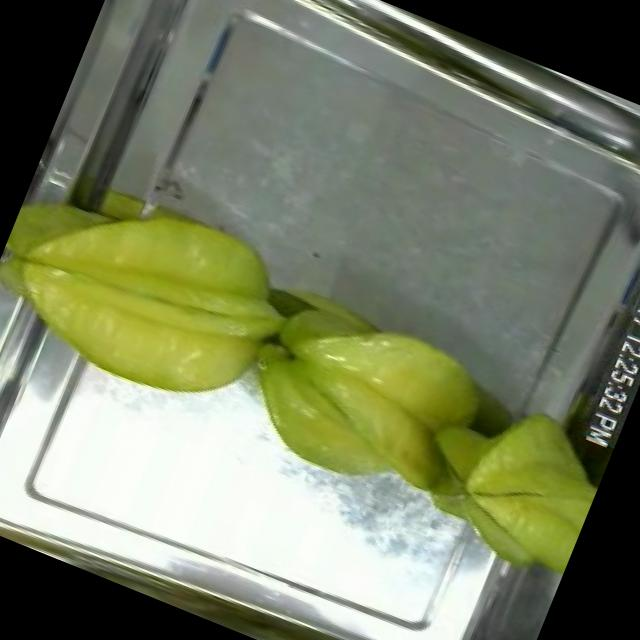fruit: (0, 147, 316, 439), (212, 265, 516, 529), (430, 383, 616, 587)
